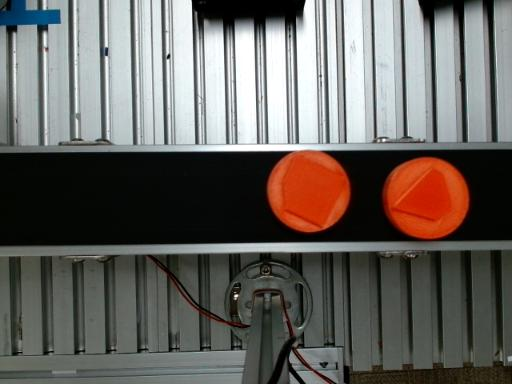Not_Square: (282, 153, 347, 227)
Orange_Waper: (382, 157, 469, 239), (266, 150, 350, 232)
